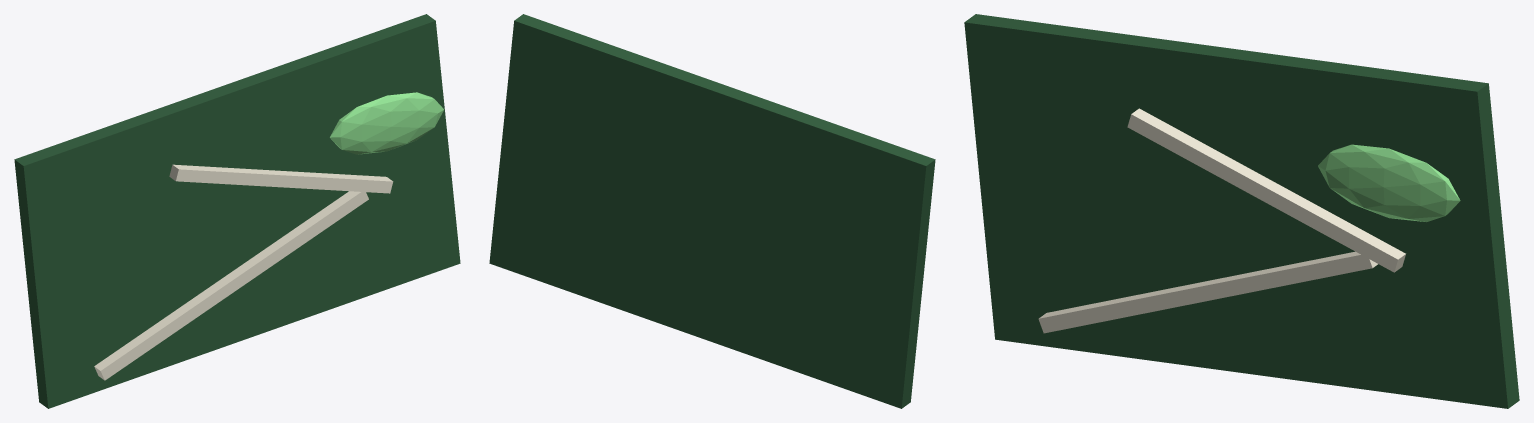
The model's file is 04_weathering_wear_overlay_4.glb.
3 renders of one model, left to right at view 1: azimuth 30°, elevation 25°; view 2: azimuth 150°, elevation 25°; view 3: azimuth 330°, elevation 25°, orthographic. The views are drawn at different scales.
Parts seen in each view (by area): view 1: wear_plate, scratch_a, rust_or_moss_spot, scratch_b; view 2: wear_plate; view 3: wear_plate, rust_or_moss_spot, scratch_b, scratch_a.
Part boxes in pixels (bbox=[...]): wear_plate: bbox=[14, 14, 460, 408]; scratch_a: bbox=[94, 191, 368, 380]; rust_or_moss_spot: bbox=[330, 92, 444, 154]; scratch_b: bbox=[169, 164, 393, 193]; wear_plate: bbox=[489, 14, 935, 408]; wear_plate: bbox=[964, 14, 1519, 408]; rust_or_moss_spot: bbox=[1318, 144, 1460, 221]; scratch_b: bbox=[1127, 108, 1405, 272]; scratch_a: bbox=[1038, 251, 1377, 333].
Size of the model in its own units: 1.37 by 0.8805 by 0.134.
